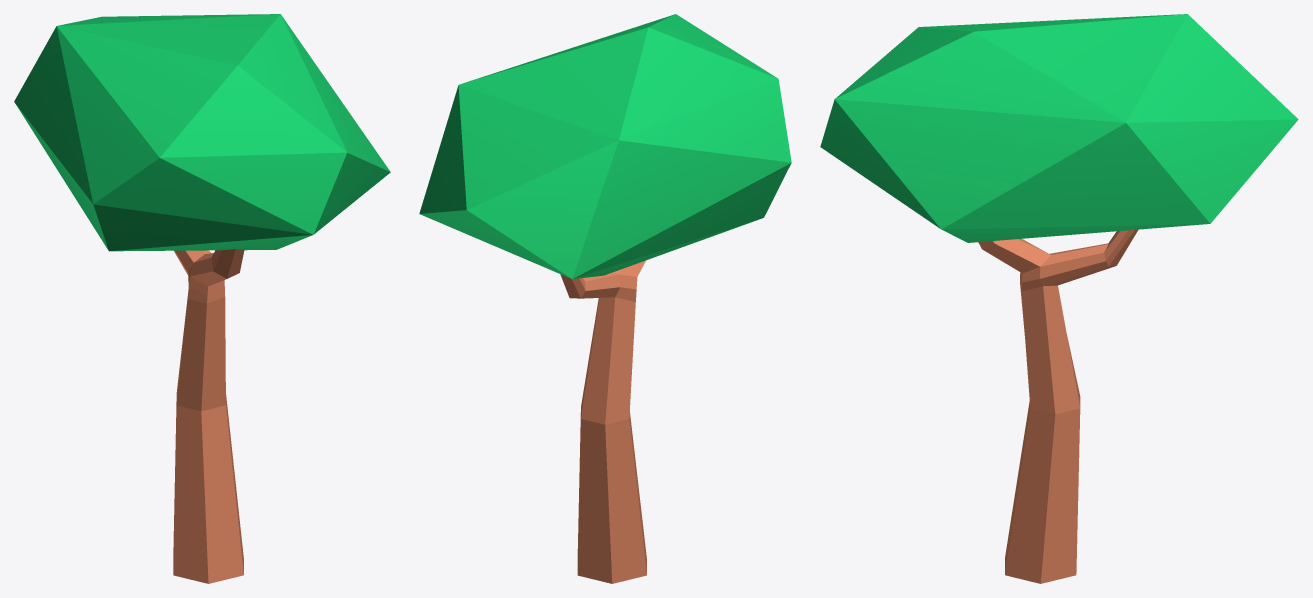
Rendered from Tree_07_gradient_green_pal.fbx.
The picture shows the model from 3 angles, left to right: view 1: azimuth 30°, elevation 25°; view 2: azimuth 150°, elevation 25°; view 3: azimuth 270°, elevation 25°; orthographic projection. The views are drawn at different scales.
Visible parts, largest first — view 1: Tree_07_gradient_green_pal; view 2: Tree_07_gradient_green_pal; view 3: Tree_07_gradient_green_pal.
Boxes of the visible parts, <box> form: Tree_07_gradient_green_pal: <box>14,14,390,583</box>; Tree_07_gradient_green_pal: <box>419,14,791,583</box>; Tree_07_gradient_green_pal: <box>820,14,1298,583</box>.
Size of the model in its own units: 134 by 238 by 194.
